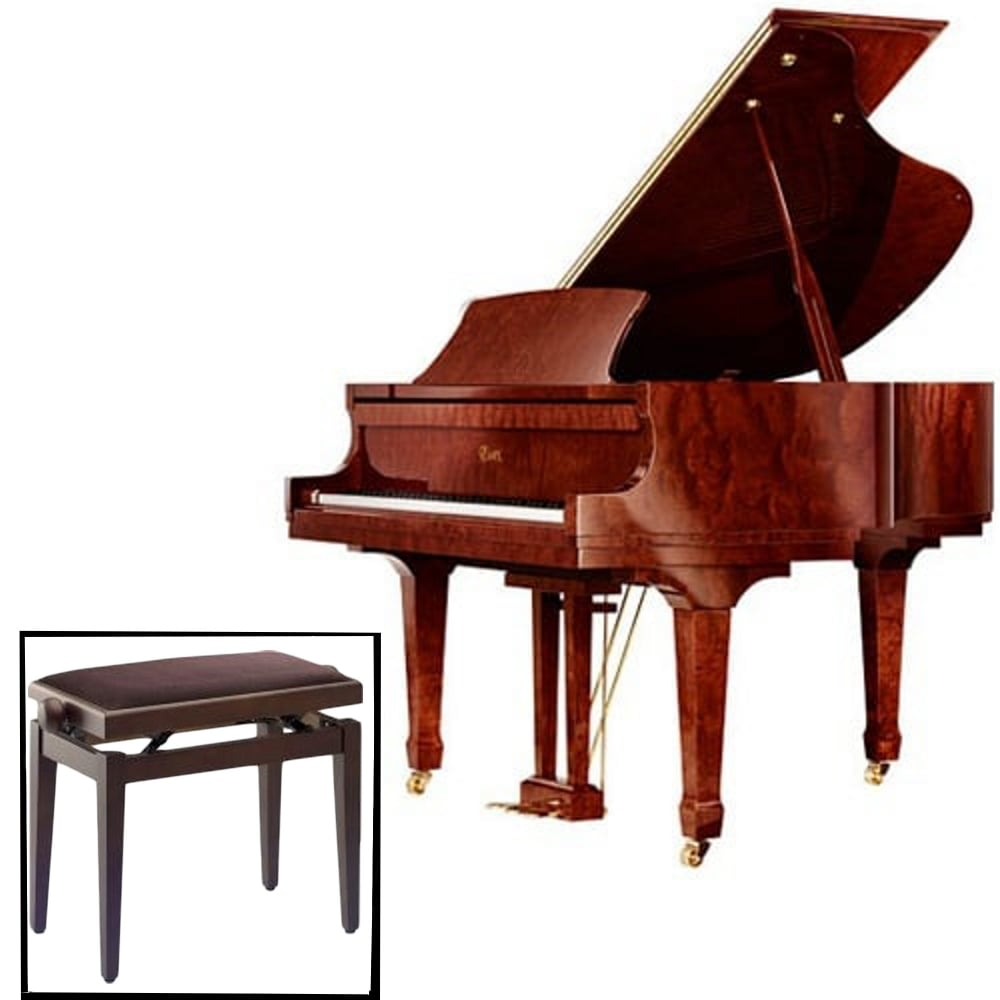GrandPiano: (248, 32, 990, 588)
